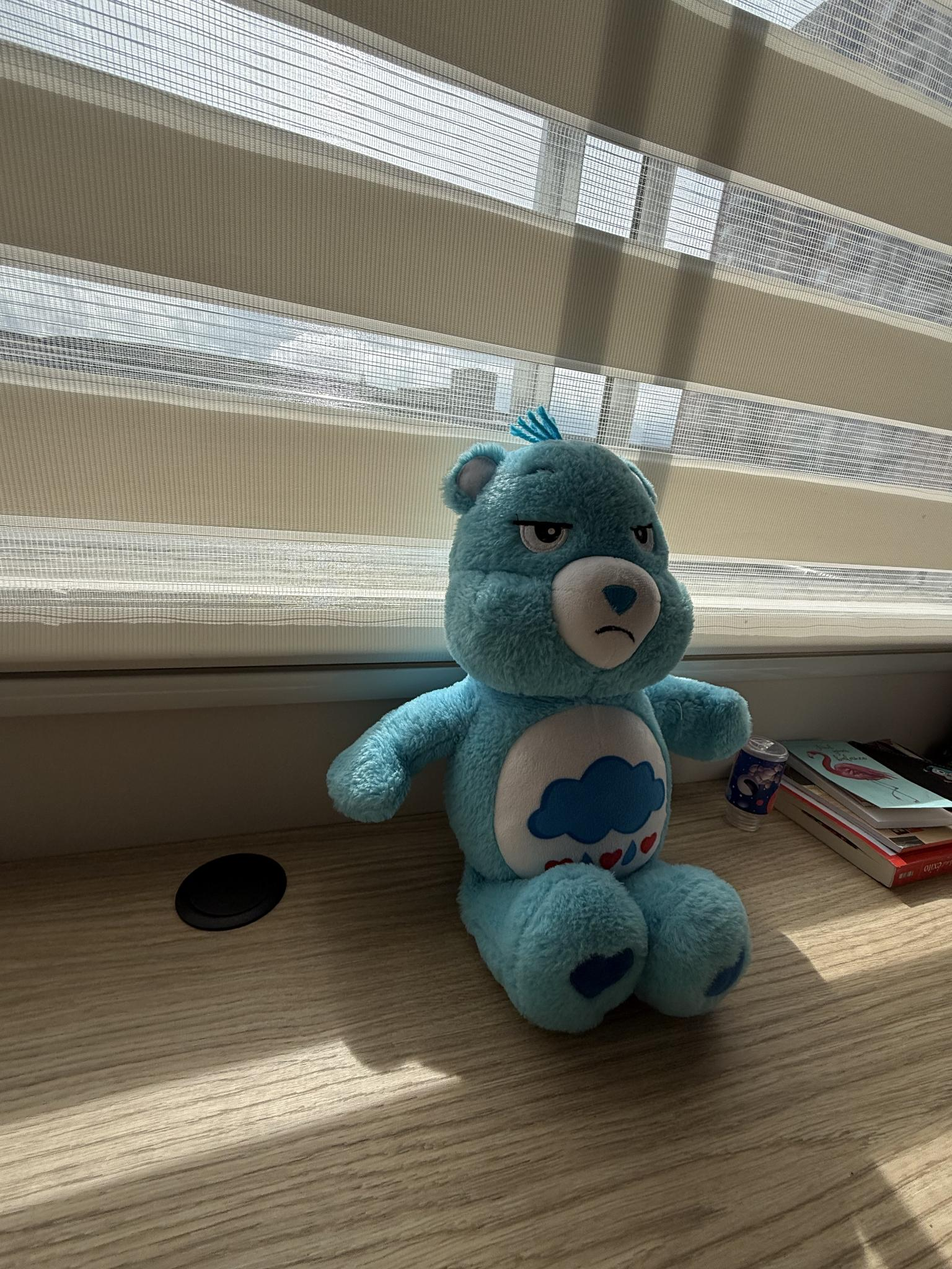peluche_Juan Jose: (428, 425, 745, 1032)
